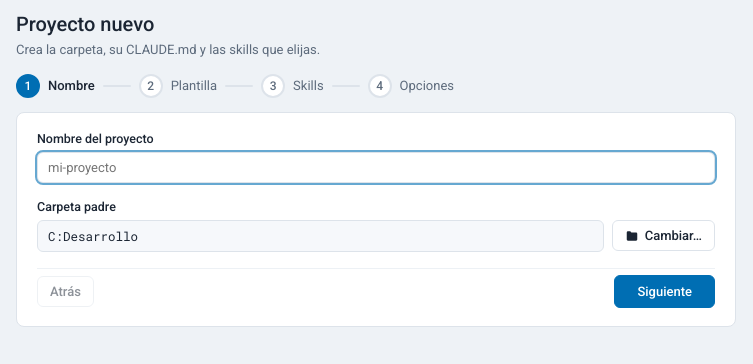
Scenario: NewProjectView › cannot advance from step 1 with an empty or invalid name
This screenshot has width=753, height=364.
Click the button "Siguiente": click(665, 291) [614,274,715,308]
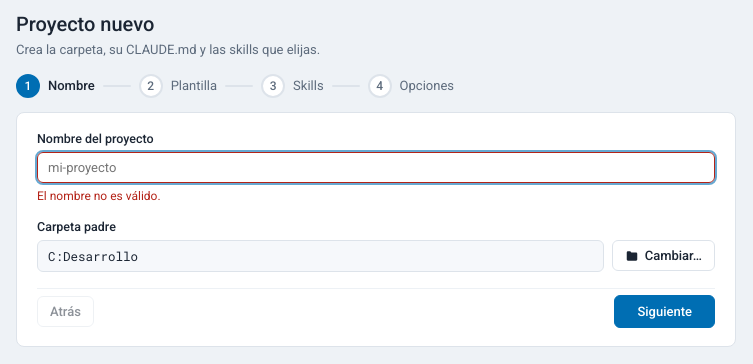
Now the message shows "no es válido", box [37,188,161,202]
